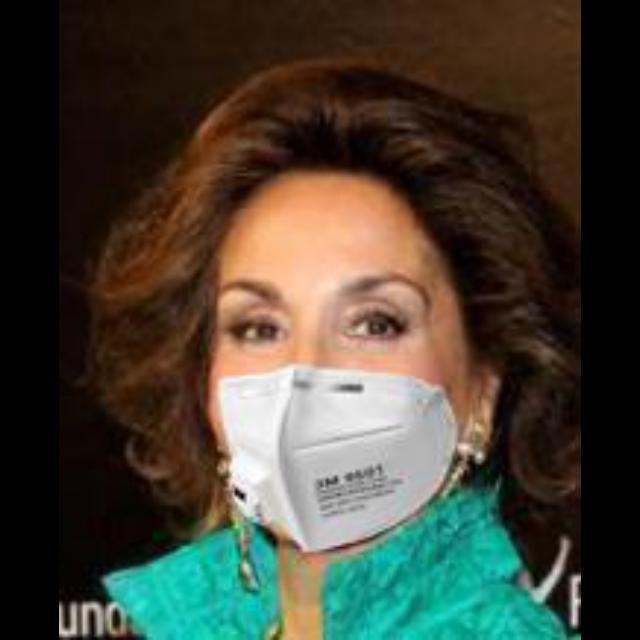suspicion: (131, 173, 477, 569)
